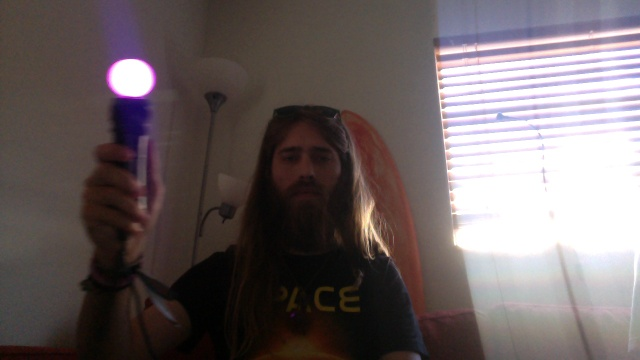wand: (109, 61, 155, 98)
